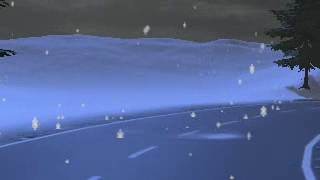Lane: (1, 101, 319, 179)
